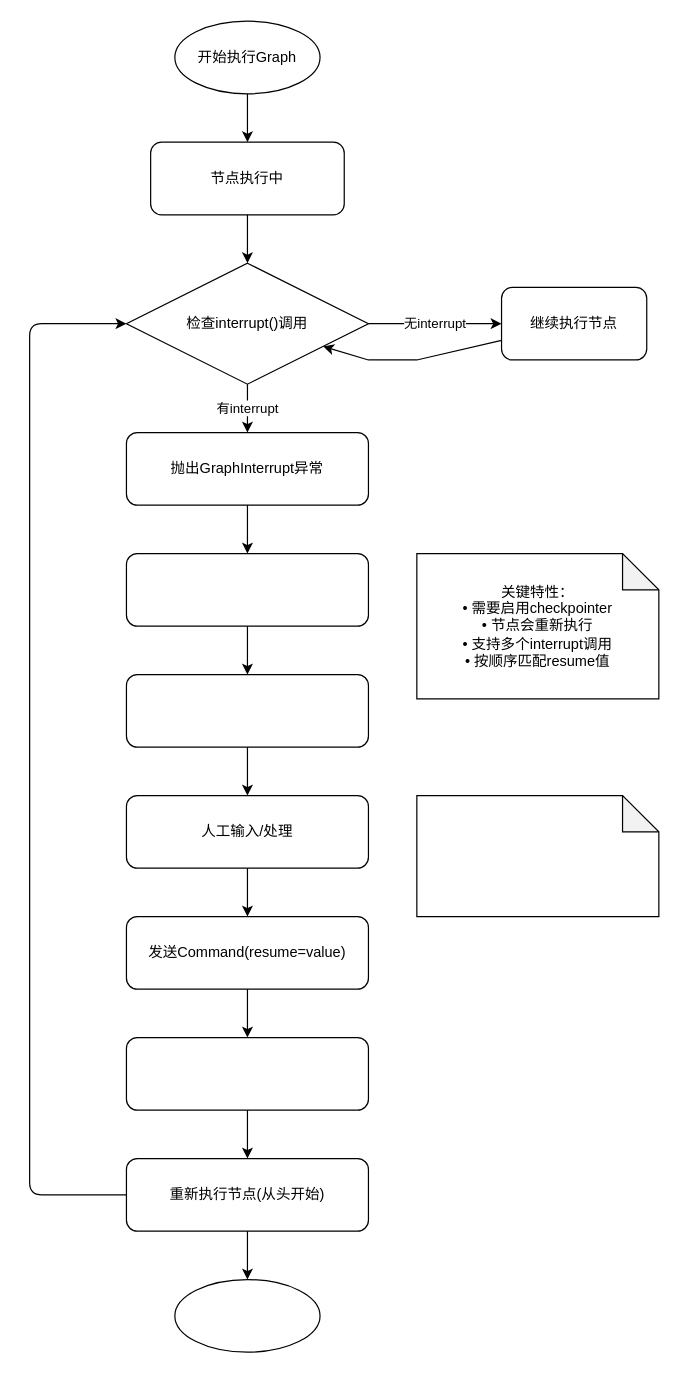
Image size: 680x1373. Some labels were removed from this diagram. Each missing label, with the centre of its shape:
"Graph恢复执行" belongs at point 246,1073.
"Graph执行完成" belongs at point 247,1315.
"Graph执行暂停" belongs at point 246,589.
"interrupt()函数： • 第一次调用抛出异常 • 后续调用返回resume值 • 支持复杂的工作流控制" belongs at point 537,855.
"客户端接收interrupt值" belongs at point 246,710.
